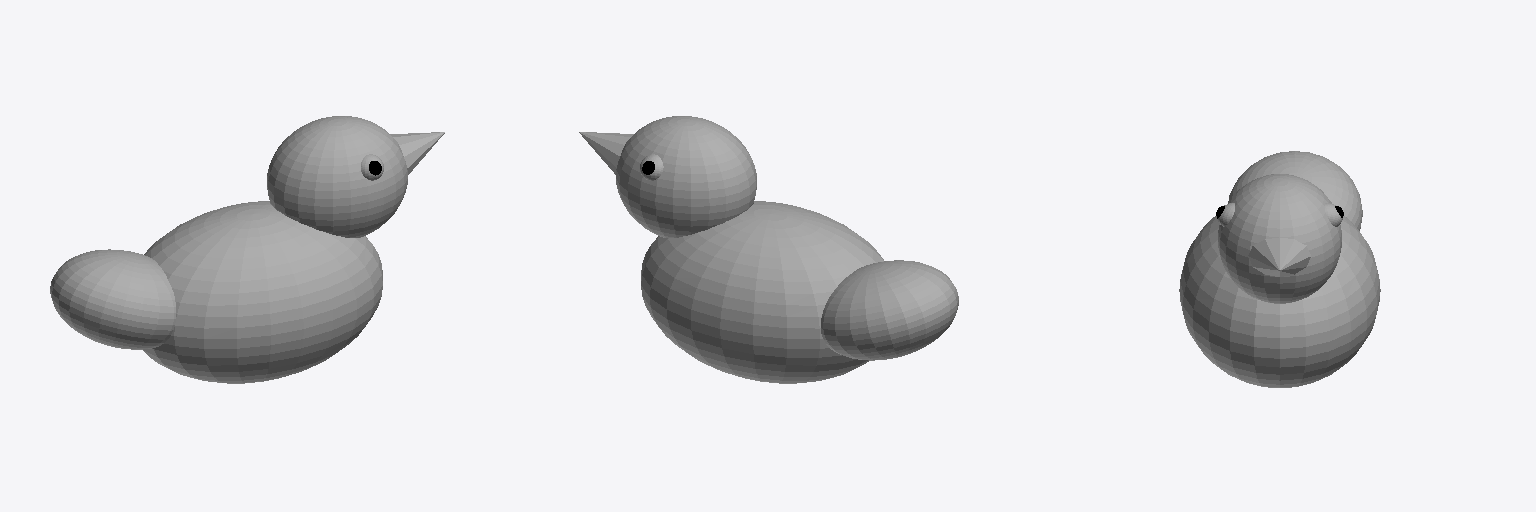
The model's file is rubber-duck0.obj.
3 views of the same model, side by side, from view 1: azimuth 30°, elevation 25°; view 2: azimuth 150°, elevation 25°; view 3: azimuth 270°, elevation 25° (orthographic).
Parts seen in each view (by area): view 1: Sphere, Sphere1, Sphere4, Cone; view 2: Sphere, Sphere1, Sphere4, Cone; view 3: Sphere, Sphere1, Sphere4, Cone.
Part boxes in pixels (bbox=[...]): Sphere: bbox=[143, 201, 382, 383]; Sphere1: bbox=[267, 116, 407, 237]; Sphere4: bbox=[50, 249, 175, 349]; Cone: bbox=[390, 132, 444, 174]; Sphere: bbox=[641, 201, 883, 383]; Sphere1: bbox=[616, 116, 756, 237]; Sphere4: bbox=[821, 260, 958, 360]; Cone: bbox=[579, 132, 633, 174]; Sphere: bbox=[1179, 216, 1380, 387]; Sphere1: bbox=[1218, 174, 1341, 303]; Sphere4: bbox=[1228, 151, 1362, 230]; Cone: bbox=[1248, 237, 1310, 276].
Size of the model in its own units: 2.54 by 1.46 by 1.16.